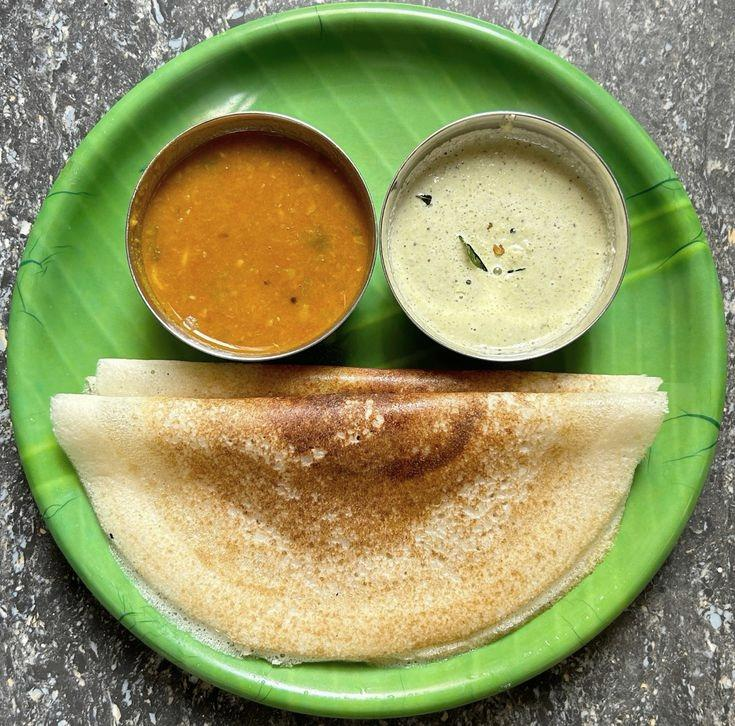dosa: (61, 357, 666, 679)
